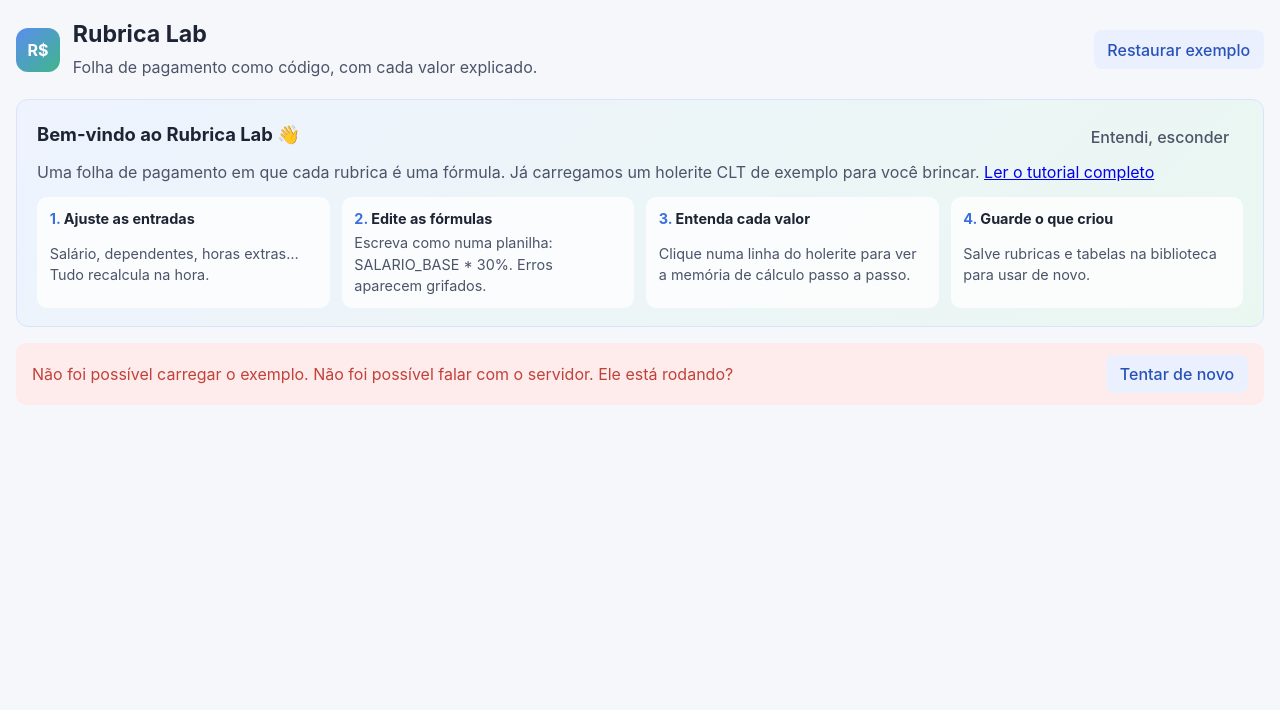
Test case: App › explains when the server is unreachable and offers a retry
Expected: the message shows "Não foi possível falar com o servidor", [32,364,733,384]
Click the button "Tentar de novo" at (1177, 374), box [1106,354,1248,393]
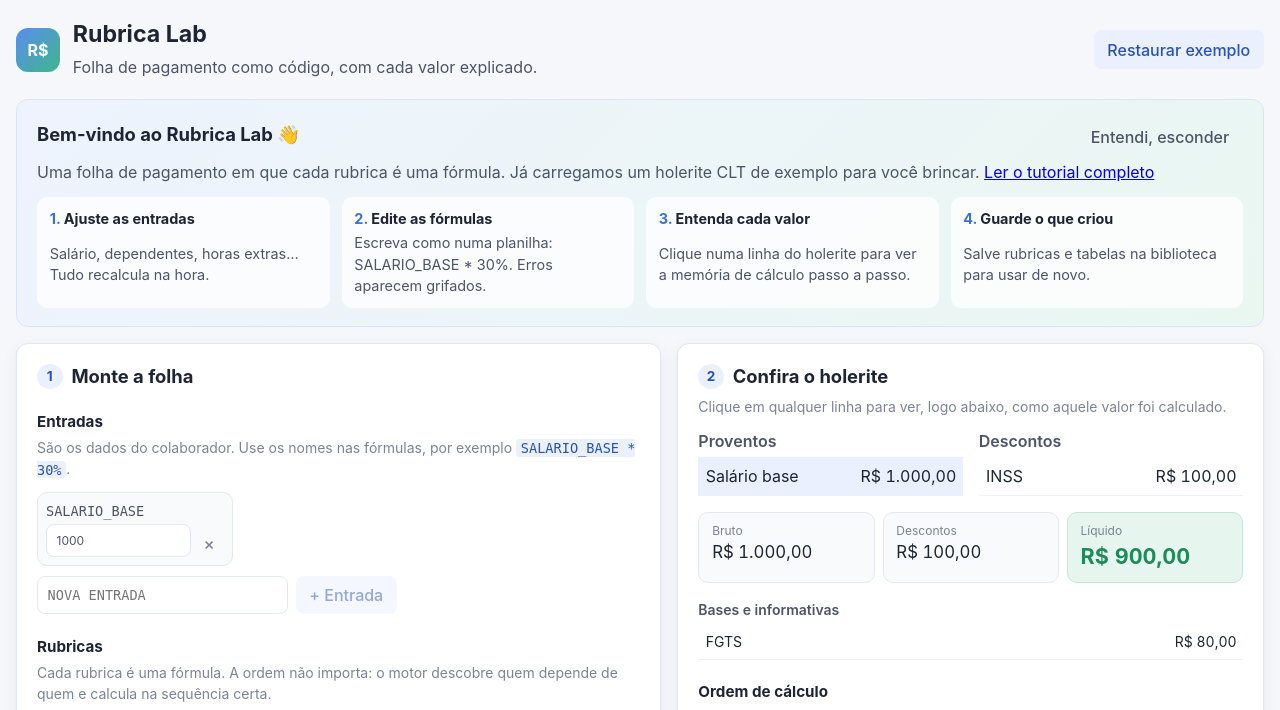
Now the text with test id "net" shows "900,00", box [1081,543,1190,569]
